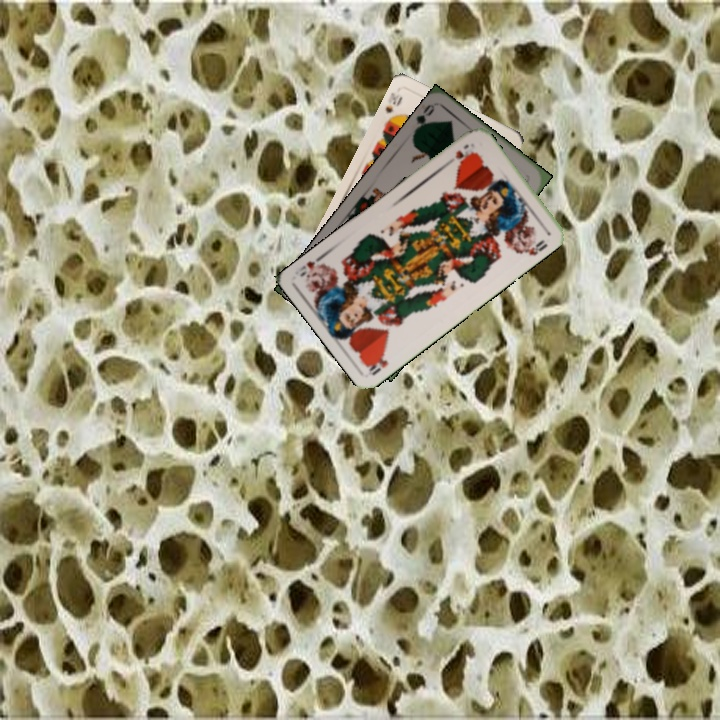GO: (409, 100, 437, 138)
HO: (363, 350, 391, 378), (451, 140, 475, 164)
S10: (381, 88, 405, 126)
